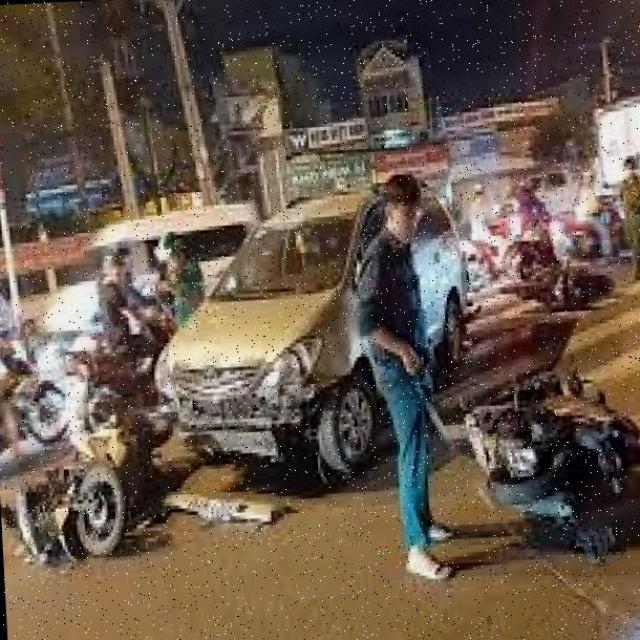accident: (96, 318, 380, 502), (444, 339, 640, 564), (0, 373, 180, 586), (492, 246, 631, 328)
